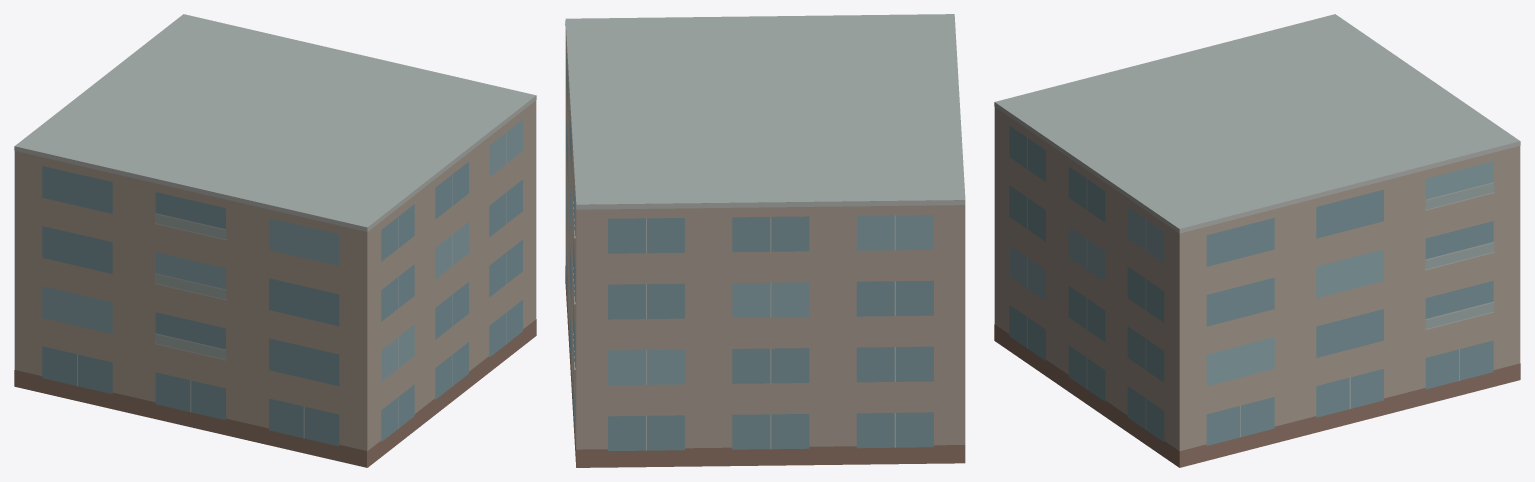
Rendered from survey-upis-32949979.glb.
3 views of the same model, side by side, from view 1: azimuth 30°, elevation 25°; view 2: azimuth 150°, elevation 25°; view 3: azimuth 270°, elevation 25° (orthographic). The views are drawn at different scales.
Visible parts, largest first — view 1: survey-upis-32949979.tmp; view 2: survey-upis-32949979.tmp; view 3: survey-upis-32949979.tmp.
Boxes of the visible parts, x1=… form: survey-upis-32949979.tmp: x1=14, y1=14, x2=536, y2=467; survey-upis-32949979.tmp: x1=565, y1=14, x2=965, y2=467; survey-upis-32949979.tmp: x1=994, y1=14, x2=1520, y2=467.
Size of the model in its own units: 24.63 by 12.75 by 25.46.
